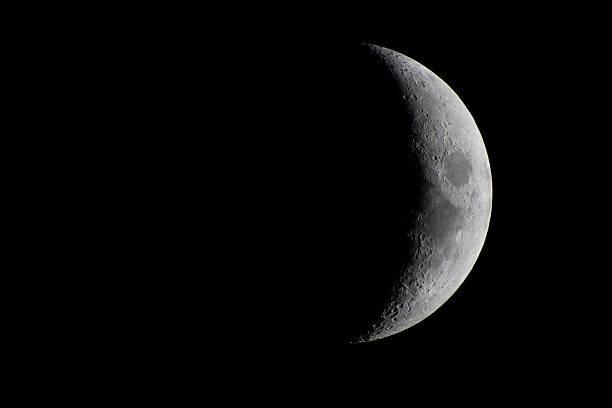moon: (189, 20, 498, 349)
